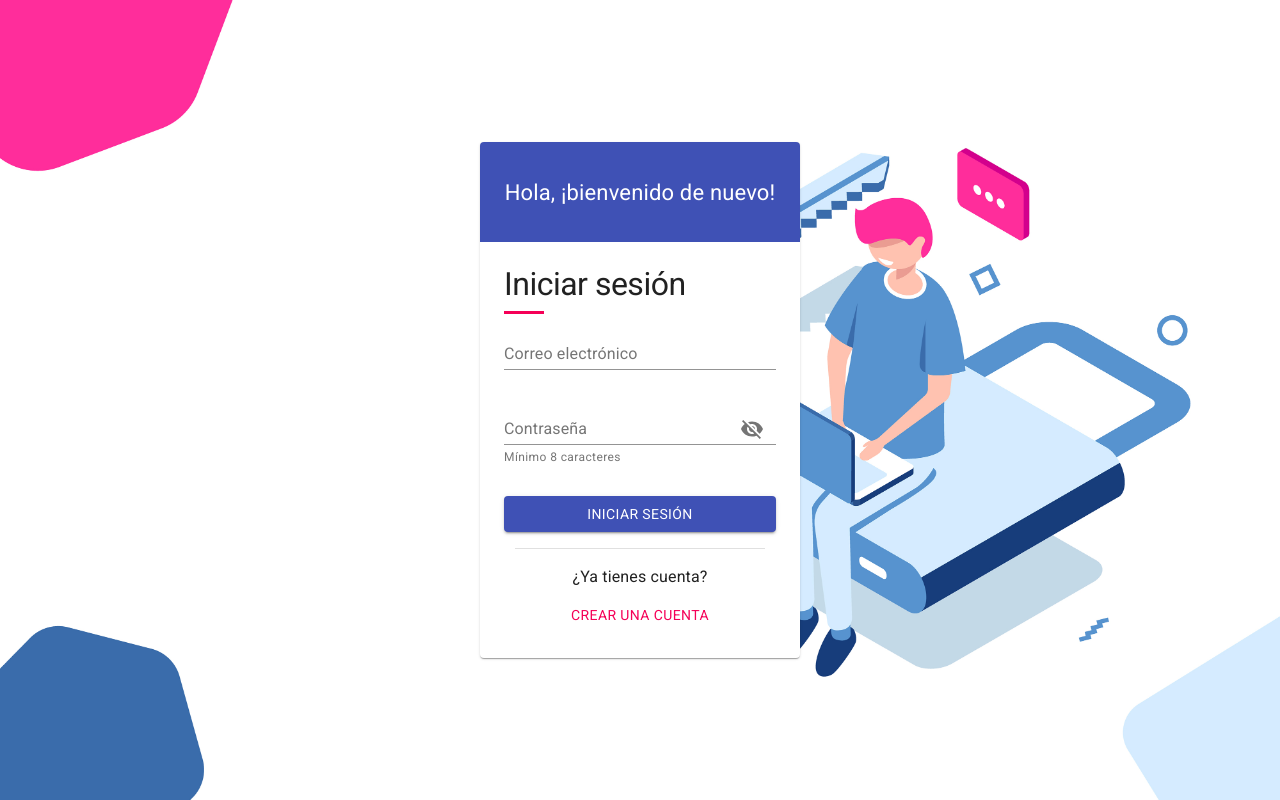
Scenario: Login › Error form by email
Type "invalid-email" into the field named "email" at (640, 354), box [504, 338, 776, 370]
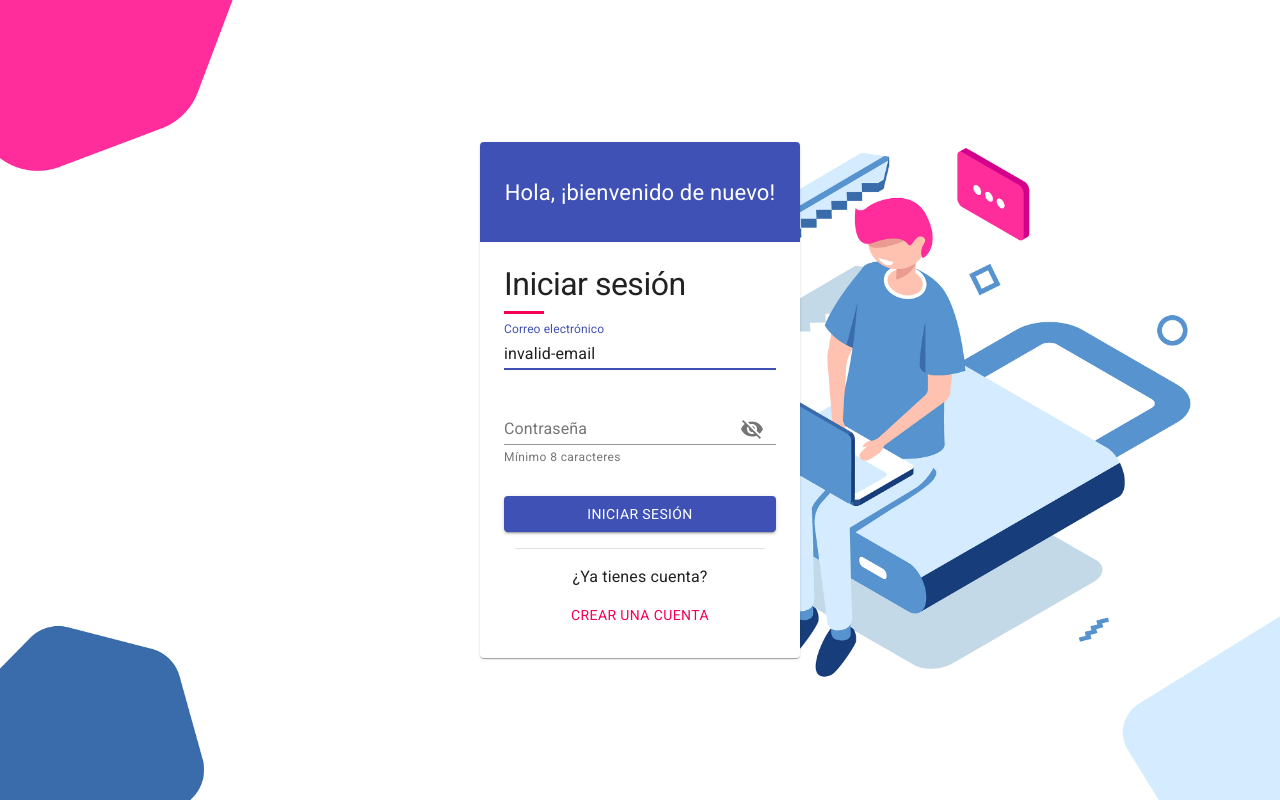
Type "12345678" into the password field named "password" at (612, 429), box [504, 413, 720, 445]
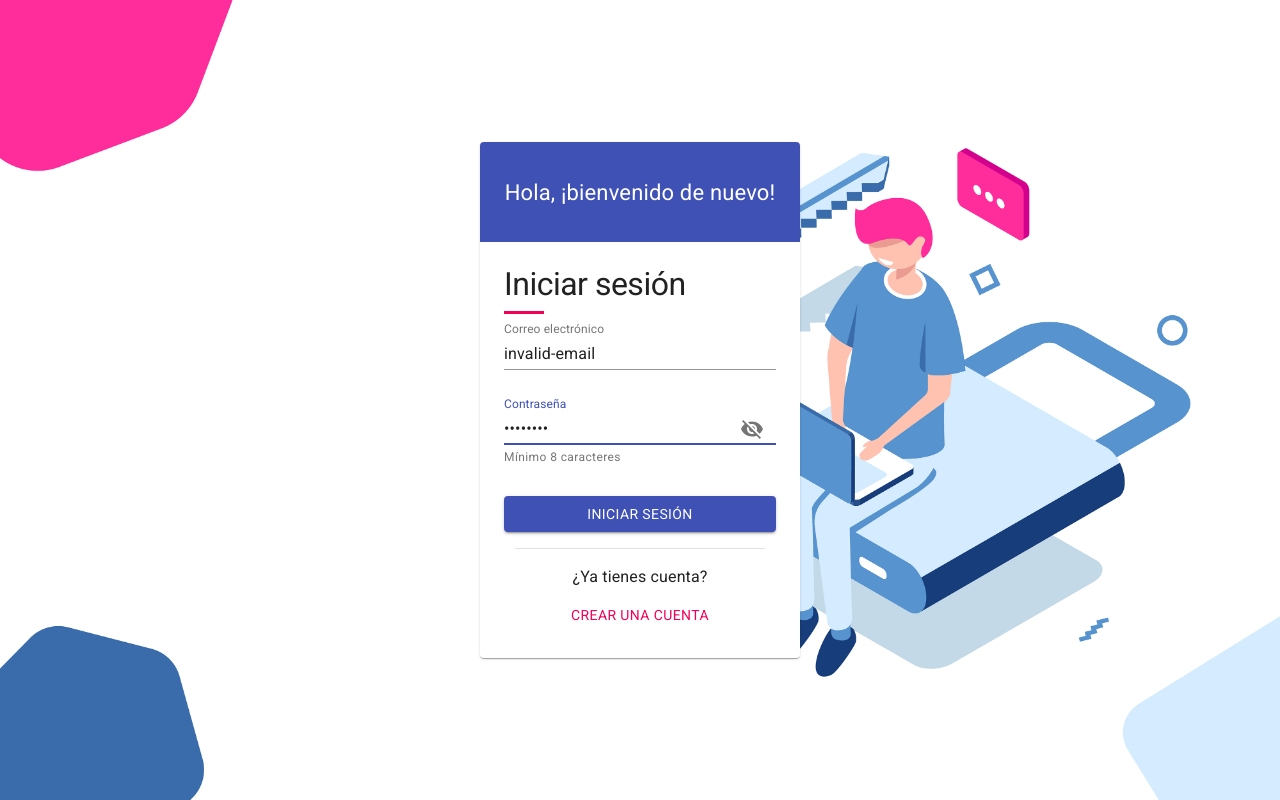
Submit the form with id "login", box [480, 242, 800, 658]
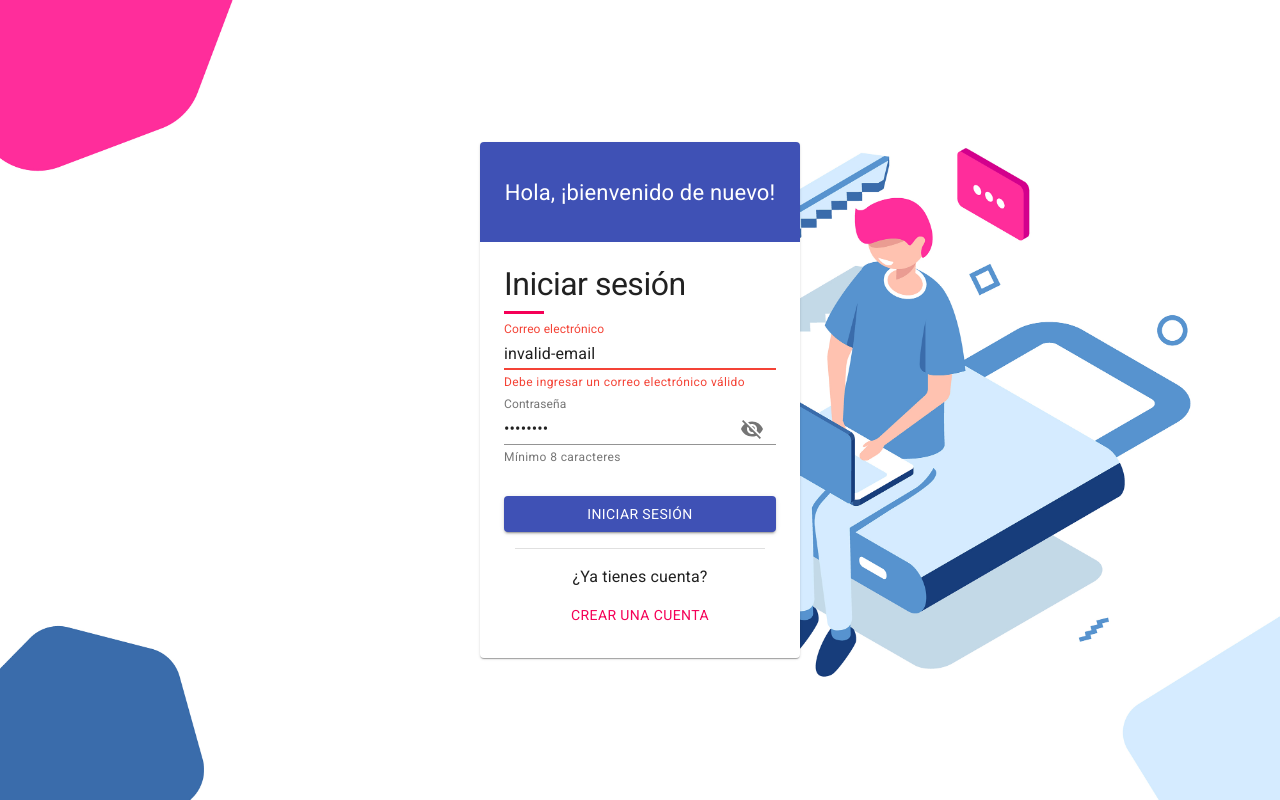
Check: the text "Debe ingresar un correo electrónico válido" is shown, box [504, 373, 776, 393]
